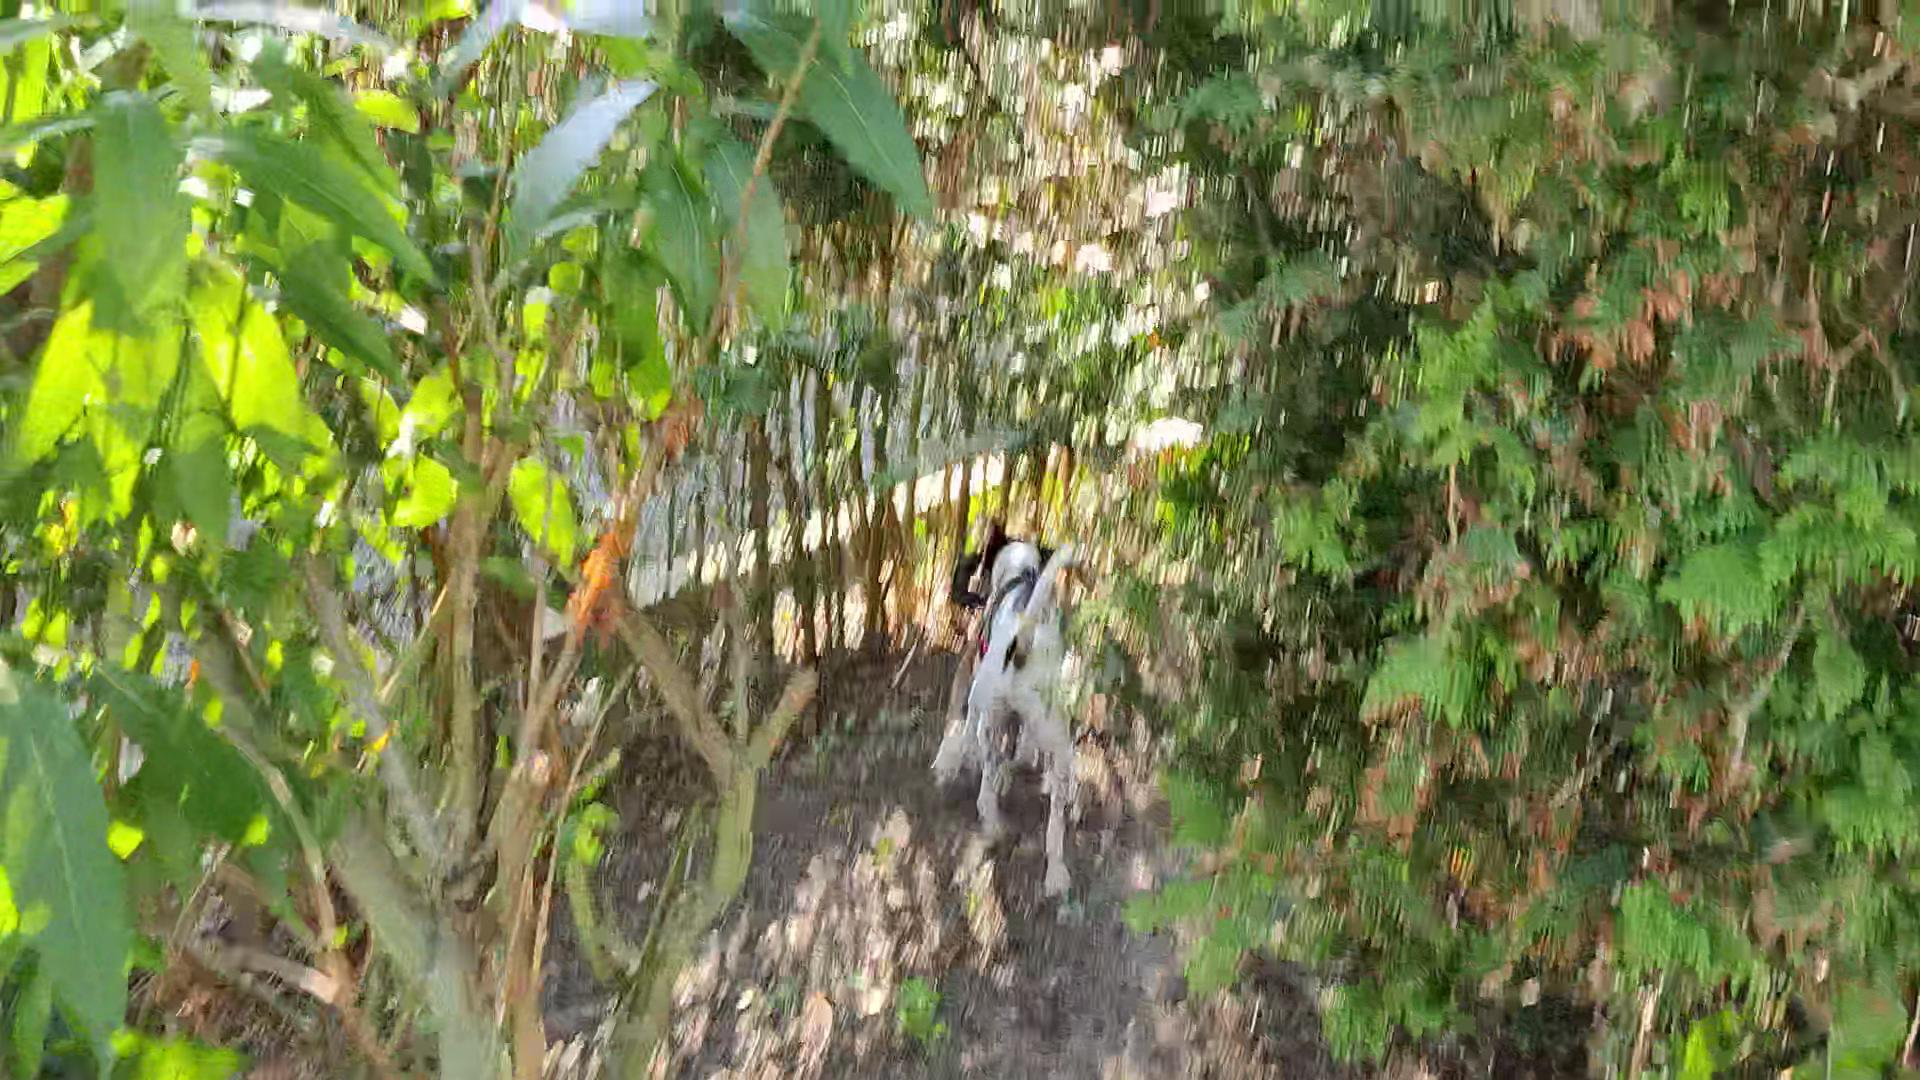Dog: (942, 514, 1109, 915)
